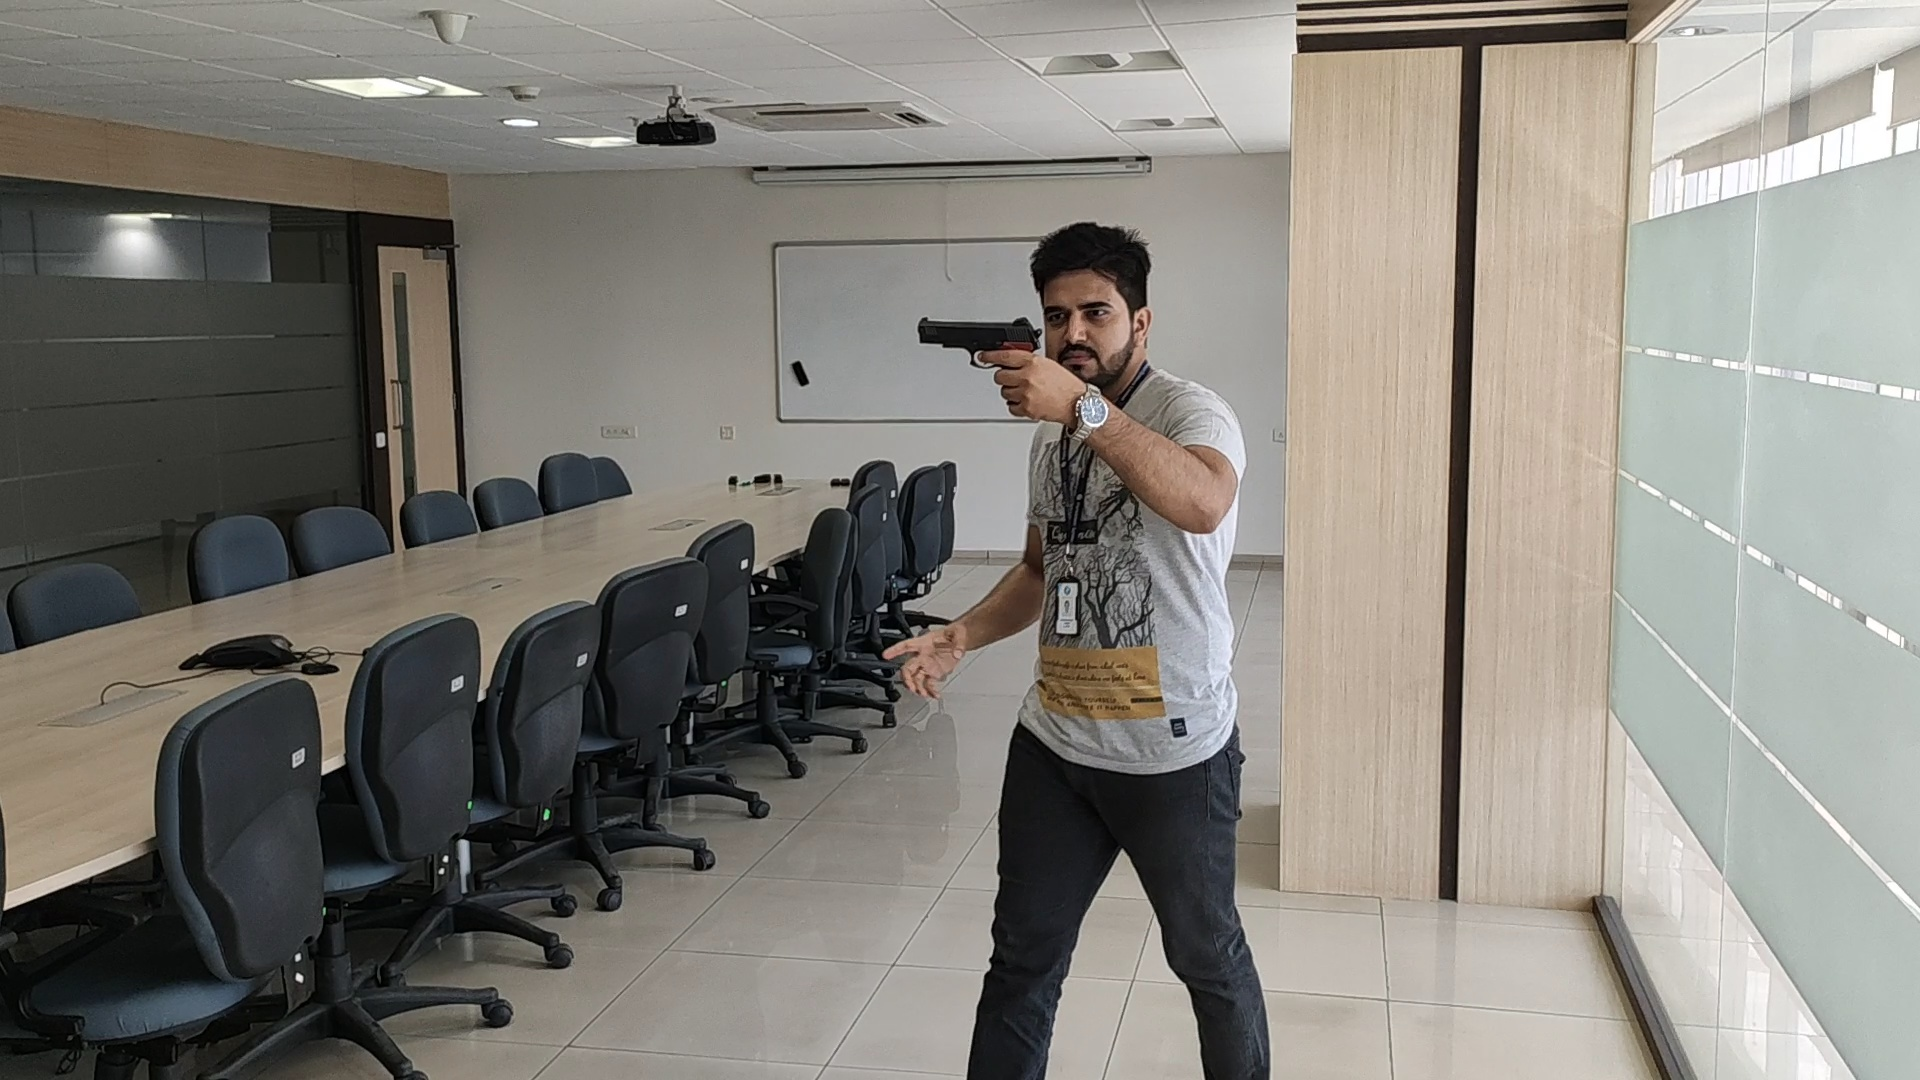gun: (916, 316, 1042, 349)
